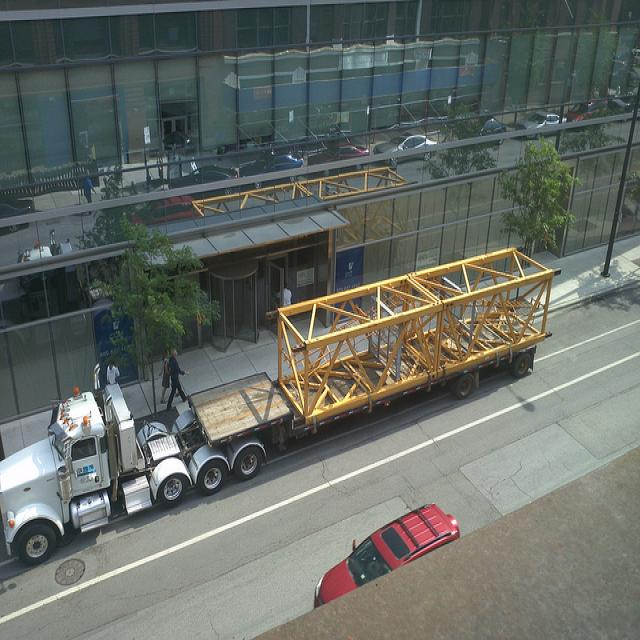Vehicle: (0, 246, 563, 566), (315, 502, 459, 615), (239, 150, 304, 192), (131, 196, 204, 229), (306, 145, 371, 179), (372, 134, 437, 166), (167, 166, 238, 189), (18, 238, 72, 263), (564, 98, 612, 122), (524, 110, 559, 129), (478, 116, 508, 136), (607, 98, 634, 112)
